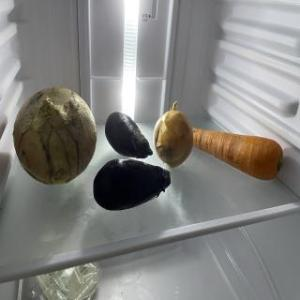carrot: (193, 126, 285, 184)
eggplant: (93, 158, 171, 216), (104, 112, 154, 160)
onion: (12, 86, 97, 190), (152, 106, 194, 174)
